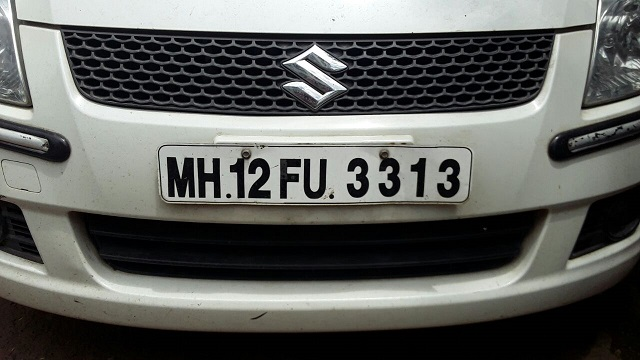licenseplate: (154, 141, 476, 205)
